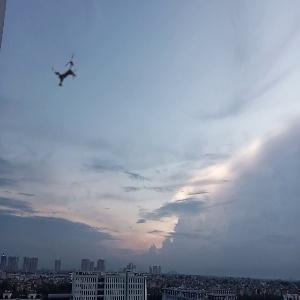drone: (36, 43, 97, 104)
